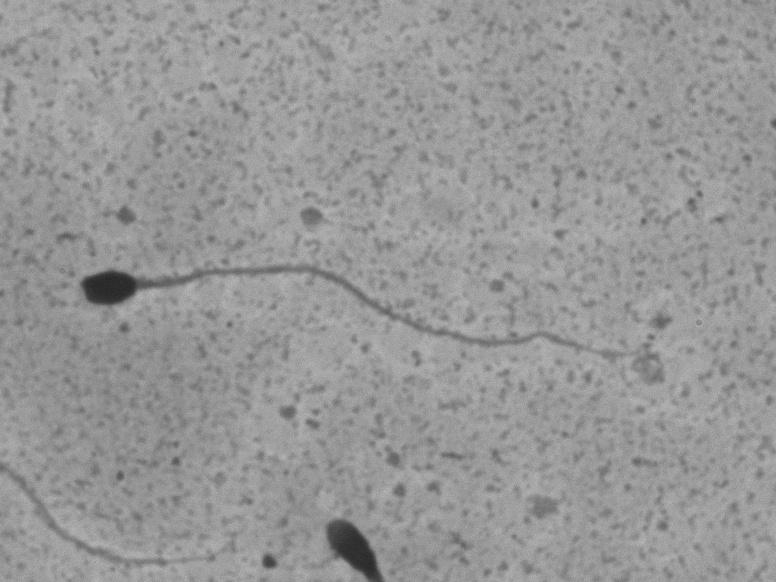Abnormal: (75, 238, 655, 376)
